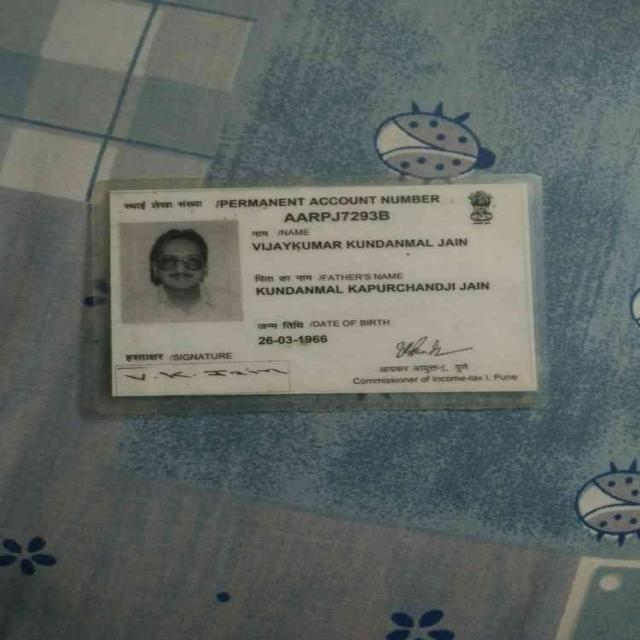pan_card: (105, 187, 536, 396)
